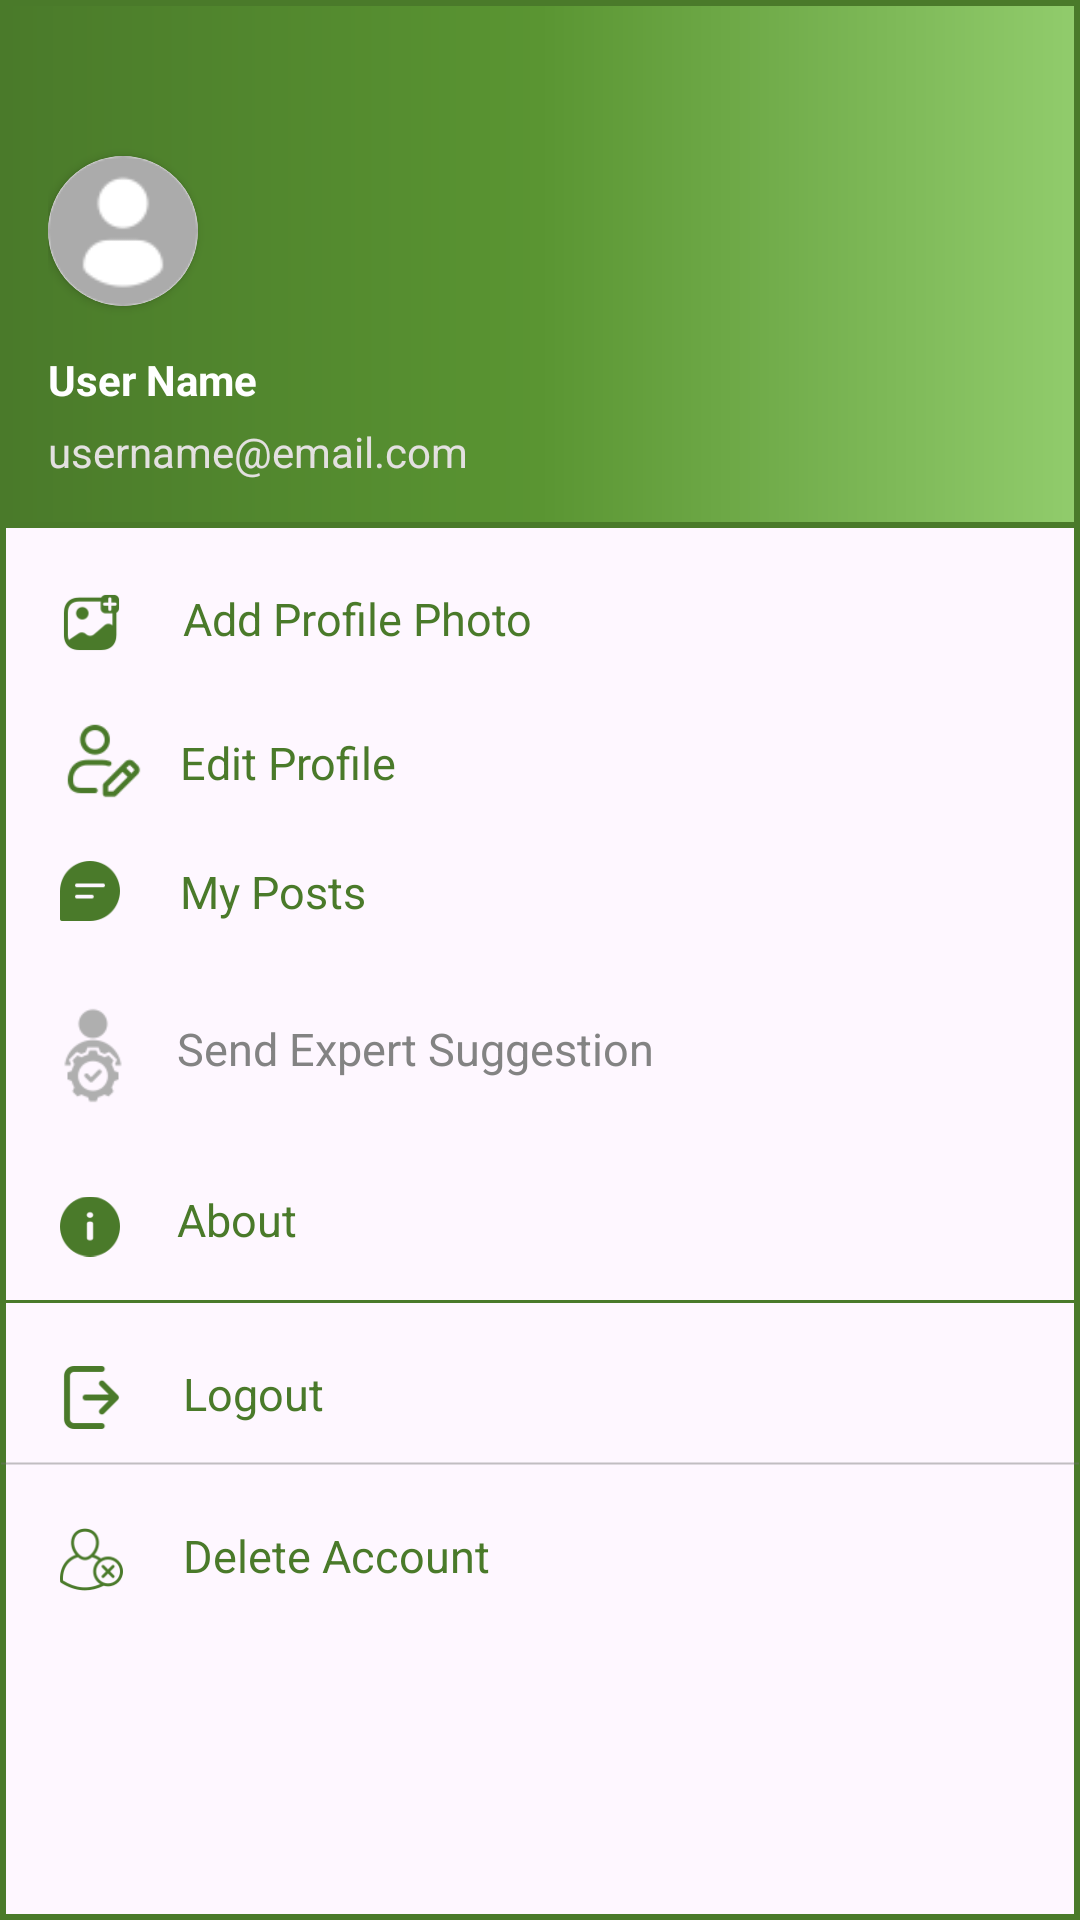

Icons on this 1080x1920 Android screen, each with its box as (x1, y1, x2, y2):
chat: (60, 861, 120, 921)
edit account: (67, 724, 140, 797)
gallery: (64, 595, 119, 650)
info: (60, 1197, 120, 1257)
profile photo: (48, 156, 198, 306)
